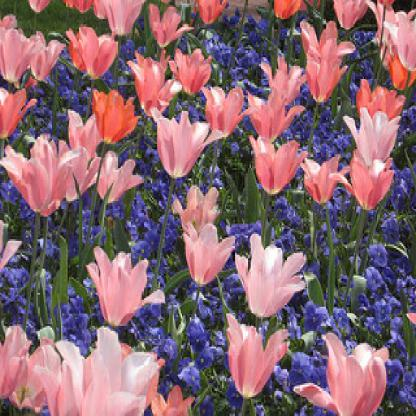TULIP: (8, 12, 403, 403)
